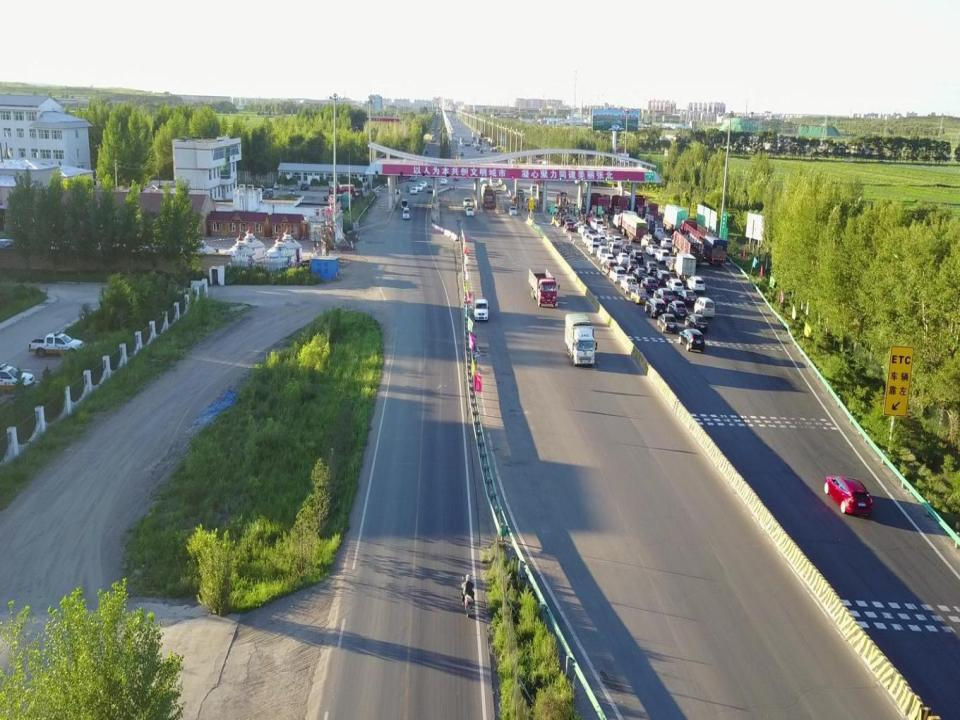bus: (488, 166, 498, 186)
car: (823, 475, 873, 517), (678, 328, 705, 352), (683, 312, 708, 332), (644, 298, 667, 318), (667, 298, 688, 319), (656, 313, 678, 333), (653, 287, 676, 306), (472, 297, 489, 321), (608, 264, 627, 284), (630, 286, 650, 304), (686, 275, 706, 293), (677, 289, 697, 306), (652, 269, 672, 285), (640, 277, 659, 291), (601, 259, 617, 275), (664, 255, 680, 271), (665, 278, 683, 292), (654, 248, 670, 262), (629, 248, 644, 262), (640, 234, 655, 248), (601, 253, 616, 267), (642, 261, 658, 274), (623, 258, 638, 271), (632, 267, 646, 280), (615, 252, 629, 264), (645, 244, 659, 256), (610, 236, 622, 249), (660, 237, 672, 248), (564, 221, 576, 232), (462, 197, 473, 208), (262, 188, 273, 199), (597, 226, 609, 236), (507, 205, 518, 215), (563, 217, 573, 228), (577, 225, 589, 234), (605, 231, 615, 241), (561, 215, 571, 225), (622, 244, 633, 253), (466, 206, 474, 217), (288, 188, 296, 198), (402, 206, 408, 218), (400, 198, 407, 207), (411, 186, 418, 195), (415, 184, 423, 191), (440, 178, 448, 185), (300, 184, 308, 191), (419, 180, 426, 187), (273, 182, 280, 189), (427, 184, 433, 192)
truck: (678, 220, 728, 266), (564, 313, 598, 366), (28, 330, 84, 358), (528, 267, 560, 309), (0, 361, 35, 391), (618, 213, 649, 242), (662, 205, 688, 236), (673, 252, 697, 280), (478, 173, 495, 208), (587, 192, 609, 216), (638, 199, 659, 216), (620, 276, 639, 294), (627, 193, 646, 211), (609, 195, 629, 212), (652, 227, 670, 243)
van: (693, 297, 714, 319), (586, 234, 602, 250), (596, 246, 609, 262), (591, 218, 603, 232), (588, 243, 600, 256)
